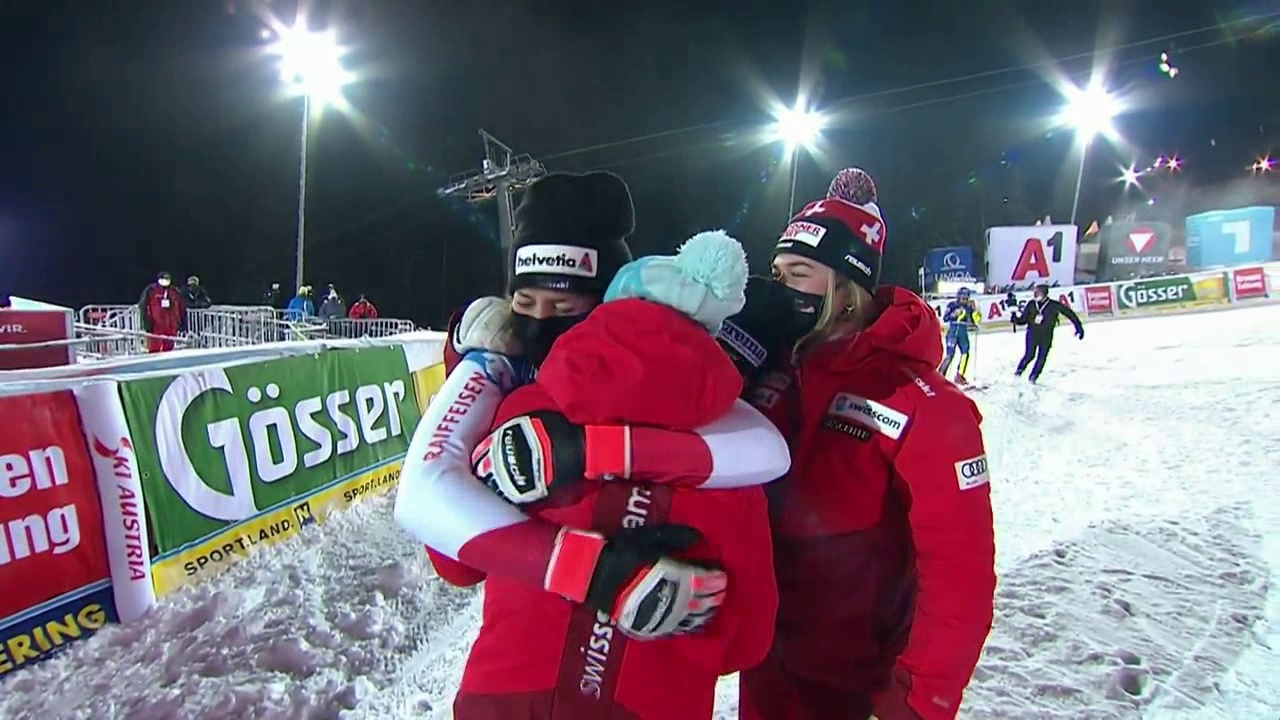a1: (999, 229, 1077, 288), (984, 296, 1013, 327)
goesser: (208, 353, 424, 490), (1122, 279, 1202, 314)
kronenzeitung: (2, 427, 87, 598), (1230, 265, 1271, 303)
uniqa: (930, 245, 975, 286)
unserheer: (1108, 224, 1170, 267)
